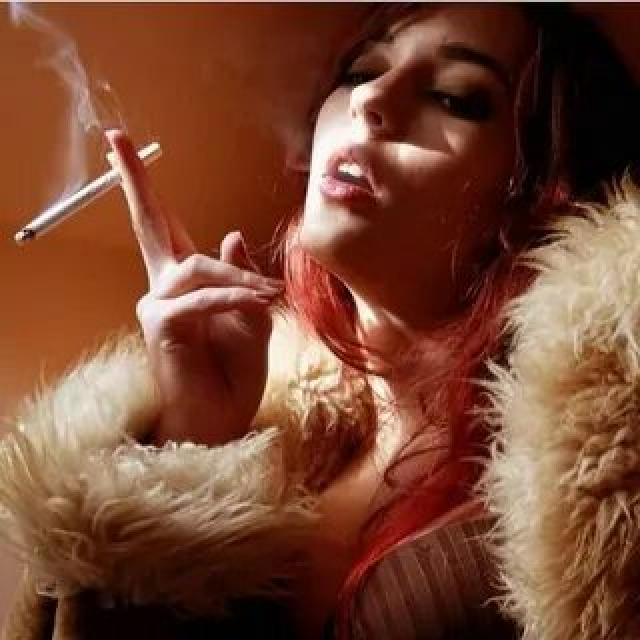smoke: (8, 142, 166, 248)
